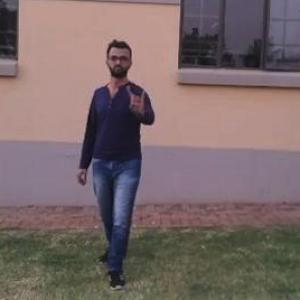takeoff-hand: (119, 80, 150, 120)
